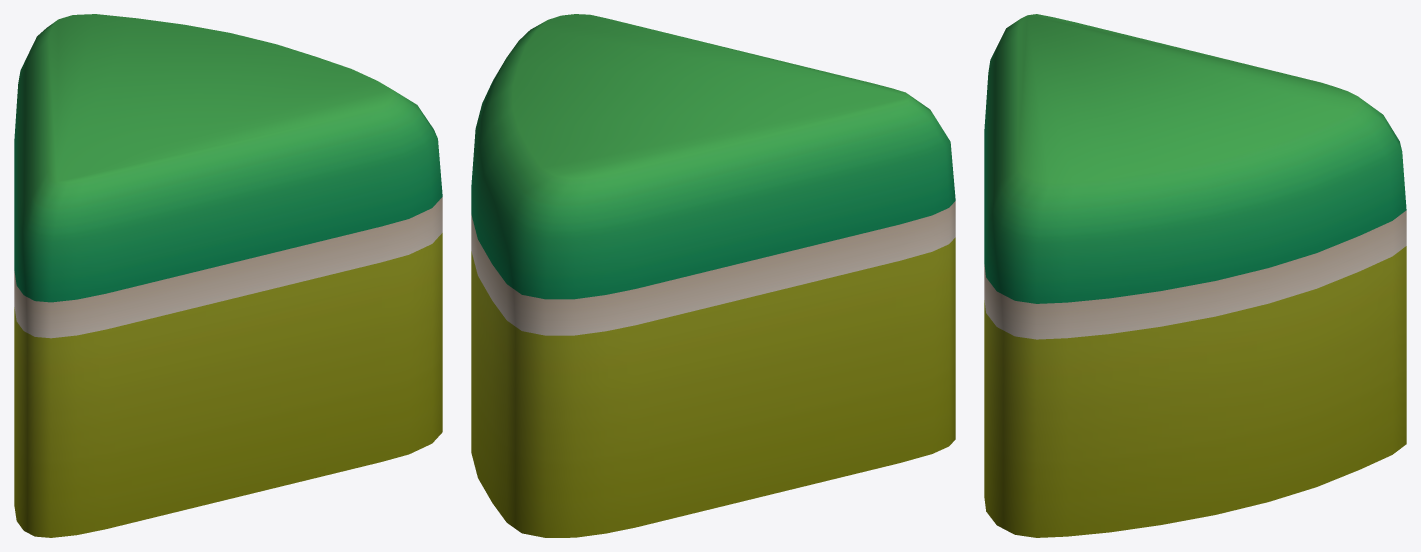
The model's file is cake03_slice.FBX.
3 renders of one model, left to right at view 1: azimuth 30°, elevation 25°; view 2: azimuth 150°, elevation 25°; view 3: azimuth 270°, elevation 25°, orthographic.
Parts seen in each view (by area): view 1: cake03_slice; view 2: cake03_slice; view 3: cake03_slice.
Part boxes in pixels (x1,y1,x2,y2): cake03_slice: (14,14,442,537); cake03_slice: (471,14,955,537); cake03_slice: (984,14,1406,537).
Bounding box in the file's own units: 0.00904 × 0.00692 × 0.00788.
